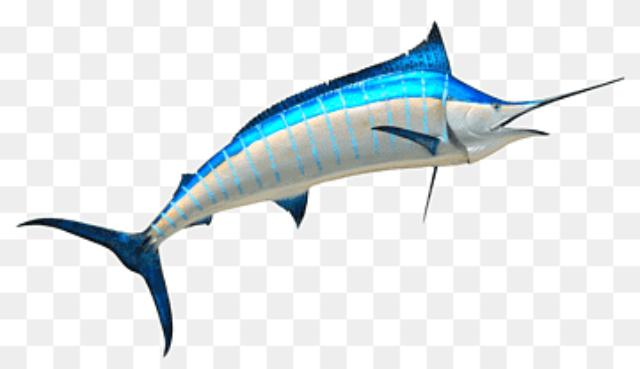Mulut: (465, 70, 639, 156)
Sirip Anal: (168, 168, 220, 236)
Sirip Dada: (367, 114, 448, 233)
Sirip Ekor: (6, 212, 186, 364)
Sirip Perut: (268, 182, 320, 240)
Sirip Punggung: (227, 12, 458, 142)
